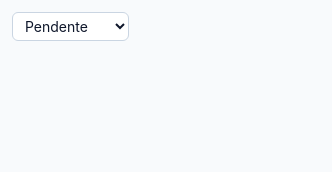
Test: OrderStatusControl › se a chamada falhar (rede, erro do servidor): mostra uma mensagem genérica e volta ao valor real
Select "Confirmado" in the dropdown named "Situação do pedido #42": (70, 26) [12,12,129,41]
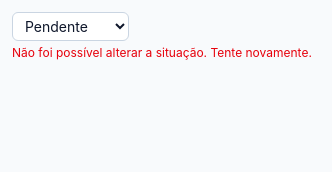
Expected: the message shows "Não foi possível alterar a situação", [12,45,312,60]
